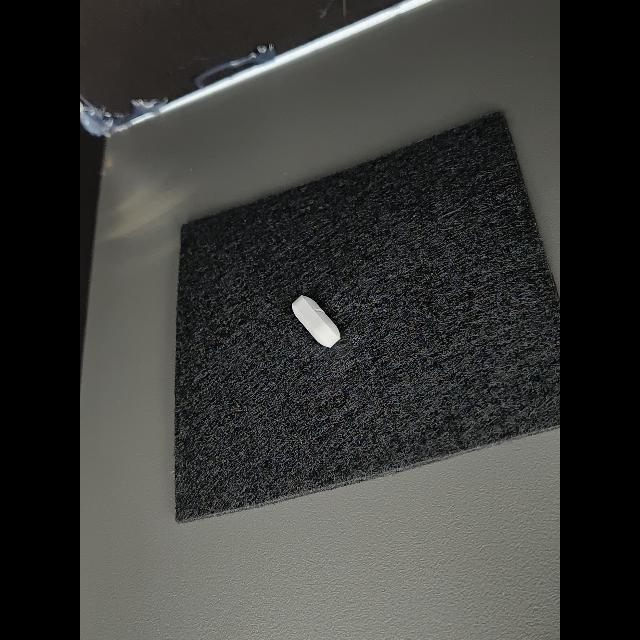Intact Pill: (292, 295, 340, 348)
